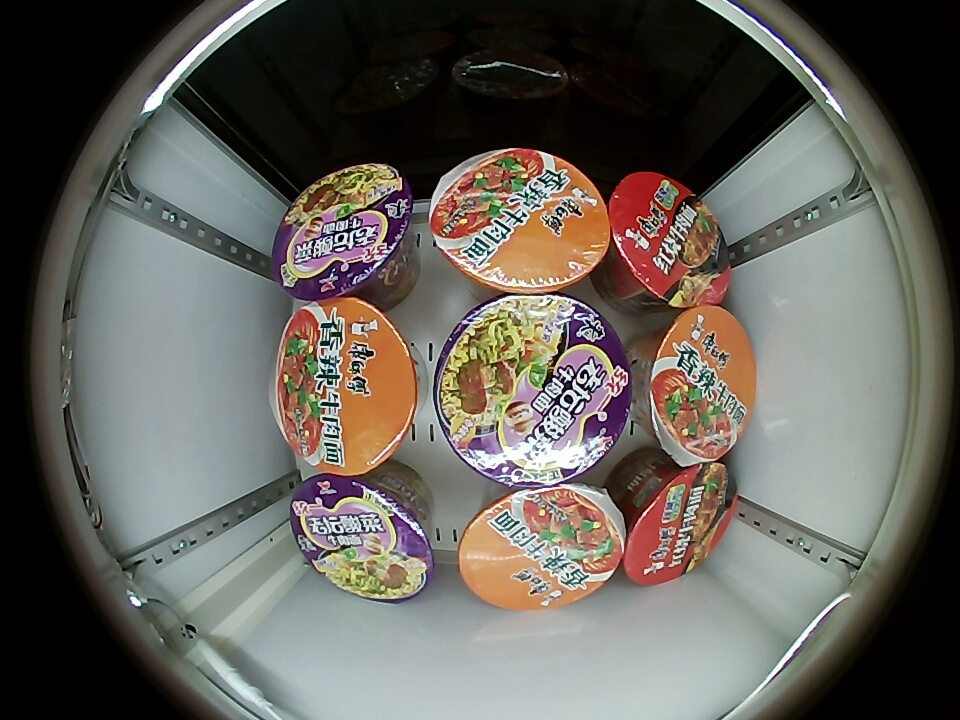hongshaoniurou: (607, 171, 730, 308), (620, 461, 736, 585)
laotansuancai: (435, 293, 634, 487), (272, 164, 414, 300), (290, 472, 435, 603)
xianglaniurou: (272, 296, 419, 475), (430, 149, 611, 294), (458, 485, 626, 611), (643, 307, 756, 464)
